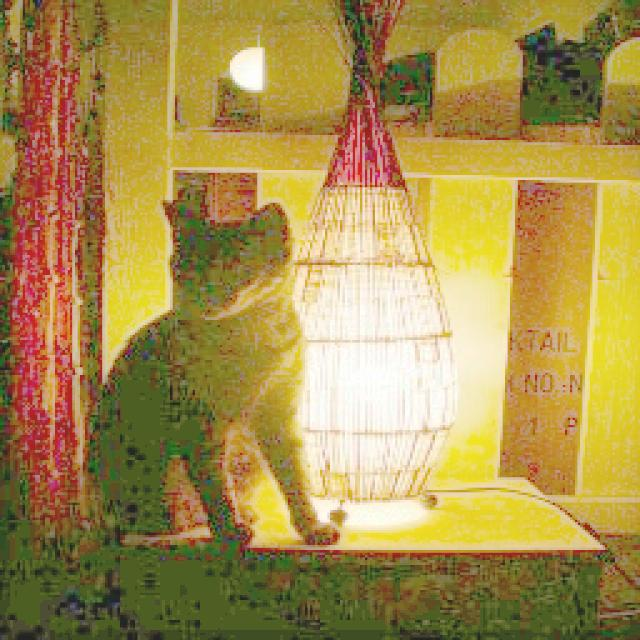cat: (85, 194, 350, 547)
